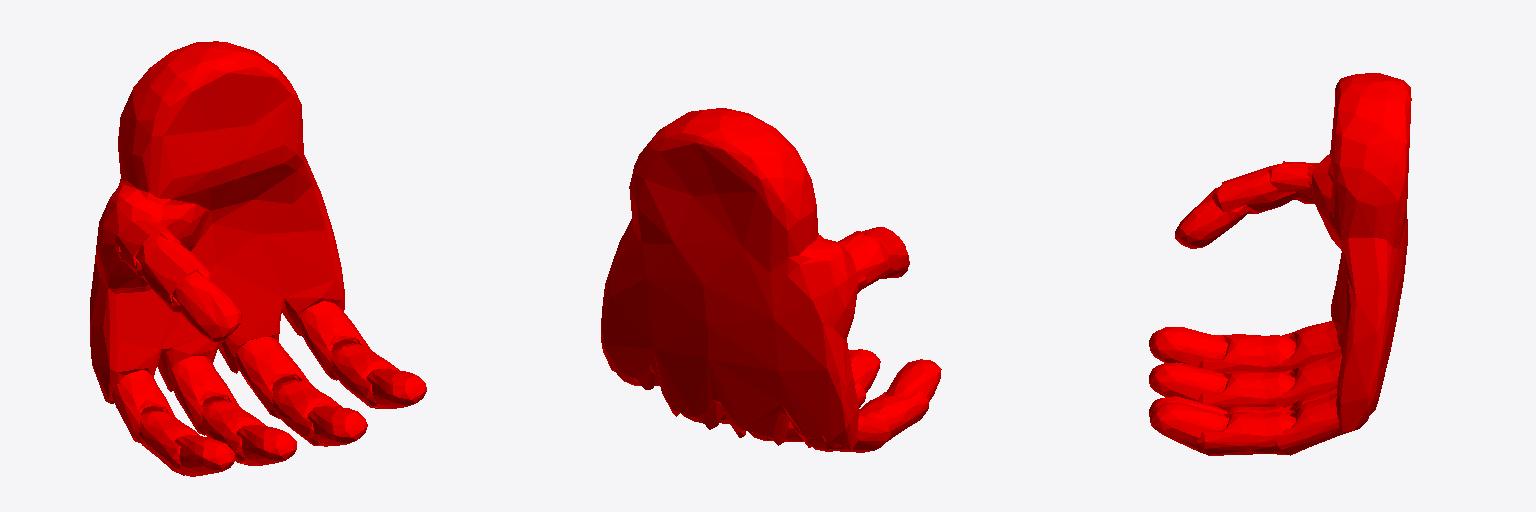
File: ghost_hand_right.obj
3 renders of one model, left to right at view 1: azimuth 30°, elevation 25°; view 2: azimuth 150°, elevation 25°; view 3: azimuth 270°, elevation 25°, orthographic.
Size of the model in its own units: 94.62 by 128 by 87.63.